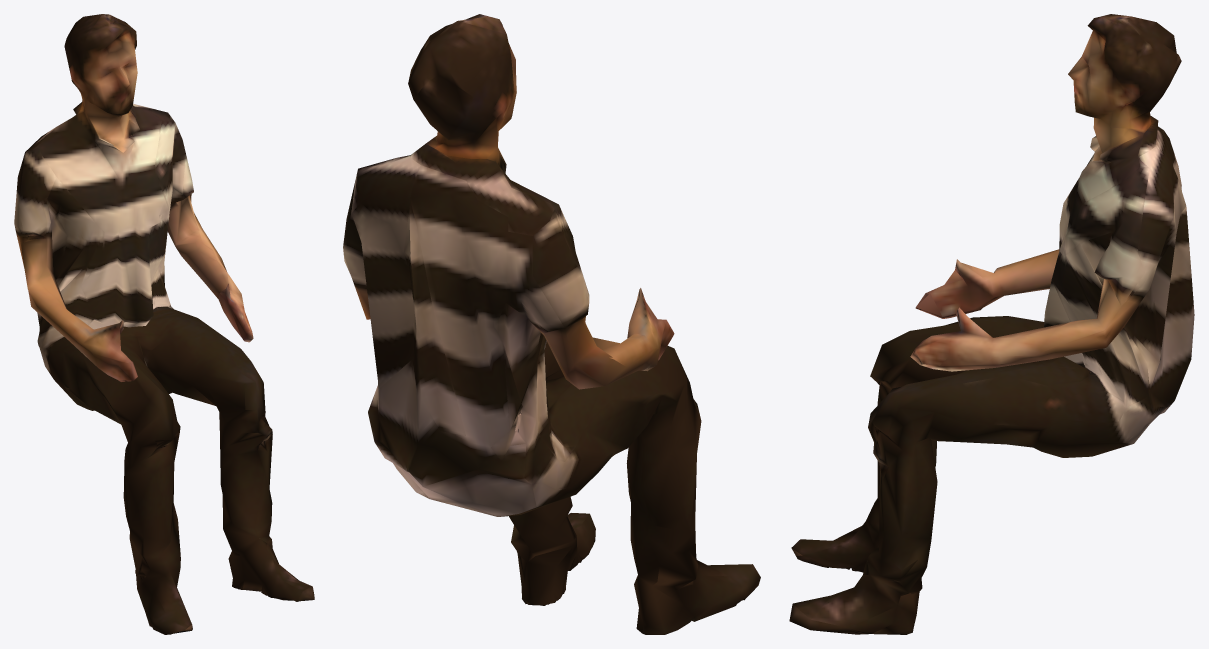
The model's file is young_man_sit.glb.
3 renders of one model, left to right at view 1: azimuth 30°, elevation 25°; view 2: azimuth 150°, elevation 25°; view 3: azimuth 270°, elevation 25°, orthographic. The views are drawn at different scales.
Parts seen in each view (by area): view 1: geometry_0; view 2: geometry_0; view 3: geometry_0.
Boxes of the visible parts, left/top/right/bottom form: geometry_0: left=14, top=14, right=314, bottom=634; geometry_0: left=343, top=14, right=760, bottom=634; geometry_0: left=789, top=14, right=1194, bottom=634.
Bounding box in the file's own units: 0.4953 × 1.33 × 0.829.
Materials: 1 (1 with a texture image).
